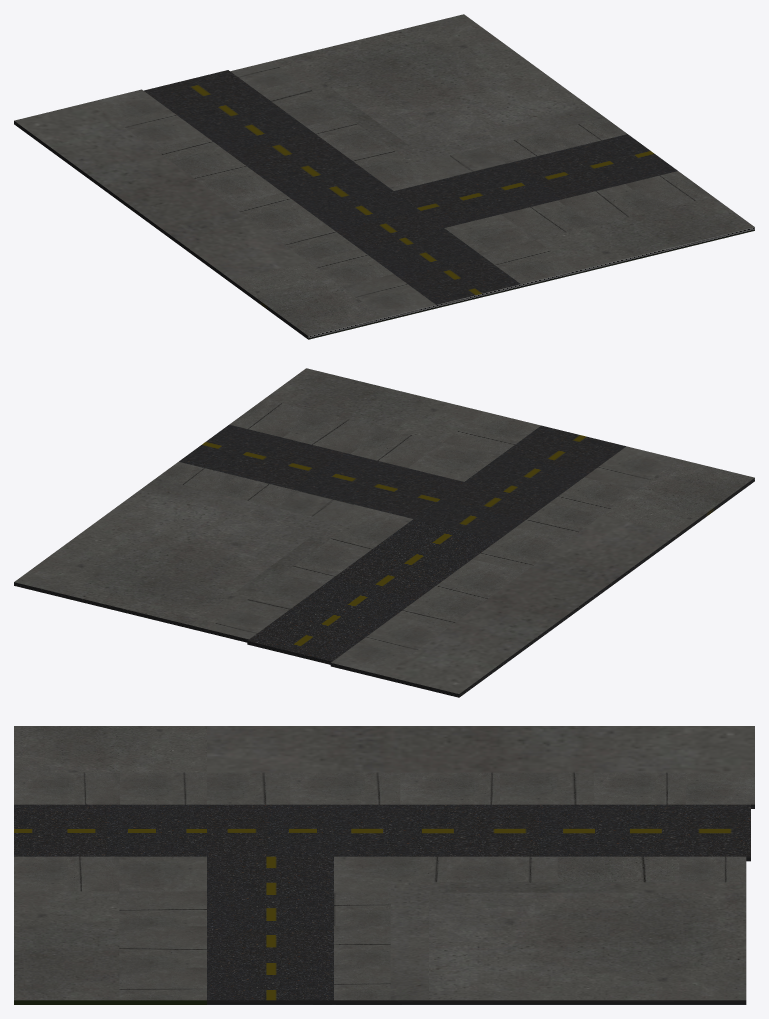
The model's file is Floor2.glb.
The picture shows the model from 3 angles, top to bottom: view 1: azimuth 30°, elevation 25°; view 2: azimuth 150°, elevation 25°; view 3: azimuth 270°, elevation 25°; orthographic projection. The views are drawn at different scales.
Visible parts, largest first — view 1: Cube; view 2: Cube; view 3: Cube.
Part boxes in pixels (box(x1,y1,x2,y2)): Cube: box(14, 14, 754, 339); Cube: box(14, 368, 754, 697); Cube: box(14, 726, 754, 1004).
Bounding box in the file's own units: 43.3 × 0.3352 × 49.43.
1 material, 1 textured.
